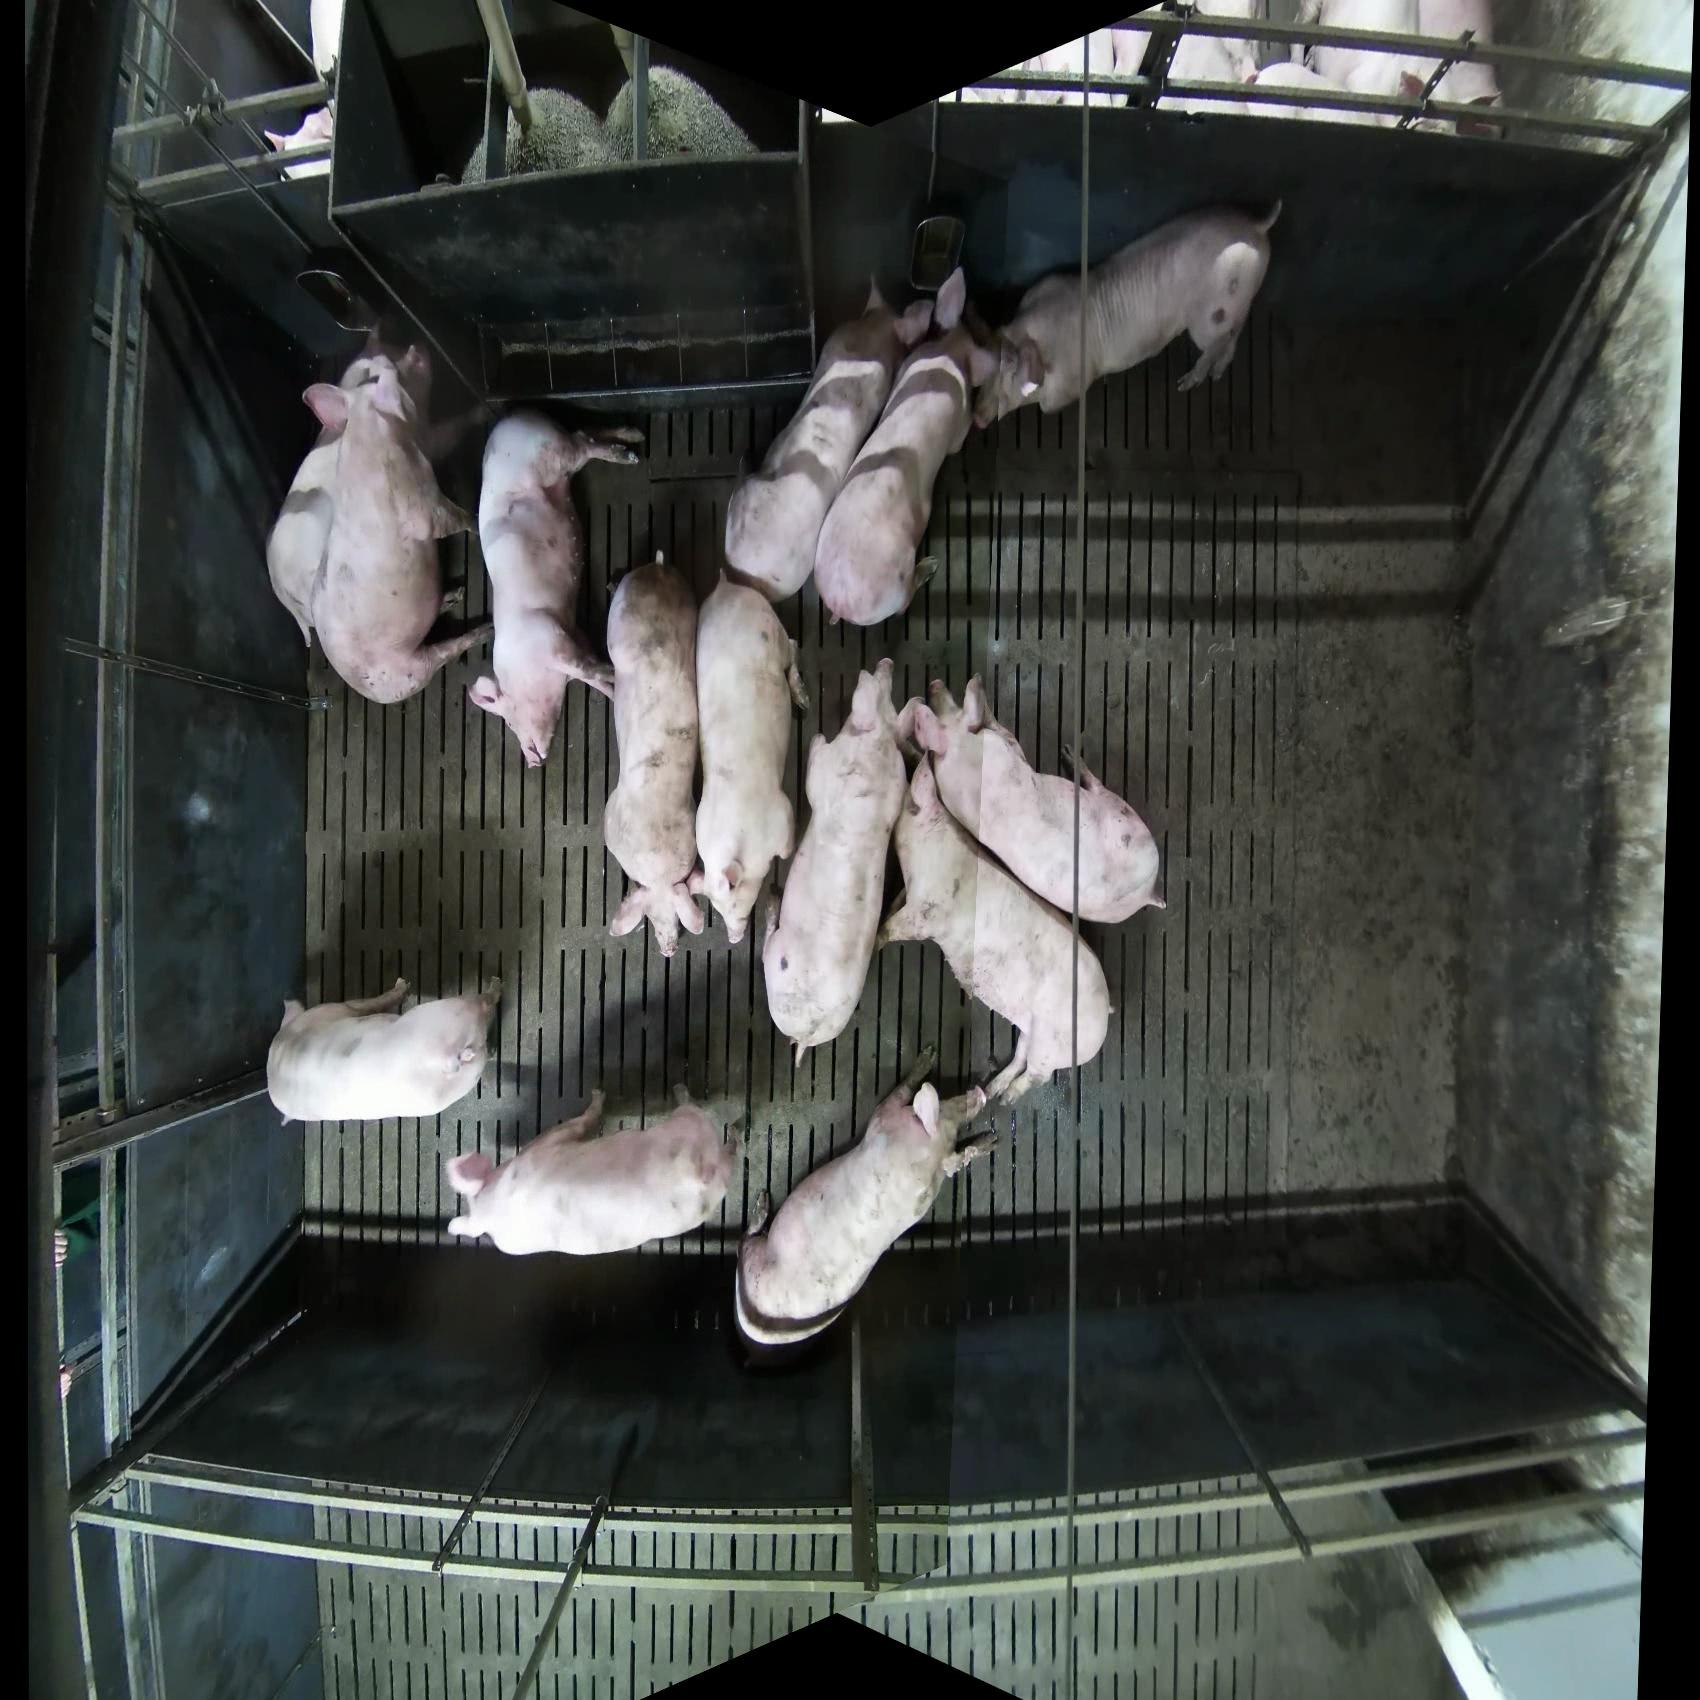pig: (876, 749, 1115, 1121), (265, 333, 493, 707), (733, 1045, 1001, 1350), (971, 195, 1284, 430), (722, 272, 937, 602), (813, 265, 1006, 629), (901, 673, 1169, 926), (465, 405, 646, 771), (760, 657, 912, 1070), (444, 1084, 739, 1258), (693, 567, 810, 947), (602, 551, 704, 959), (265, 975, 506, 1124), (1245, 2, 1505, 139), (1404, 2, 1505, 139)
